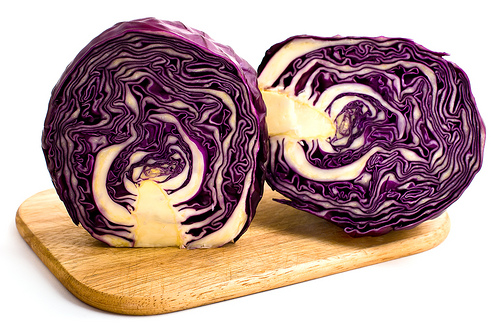cabbage: (42, 4, 270, 266), (250, 24, 493, 245)
